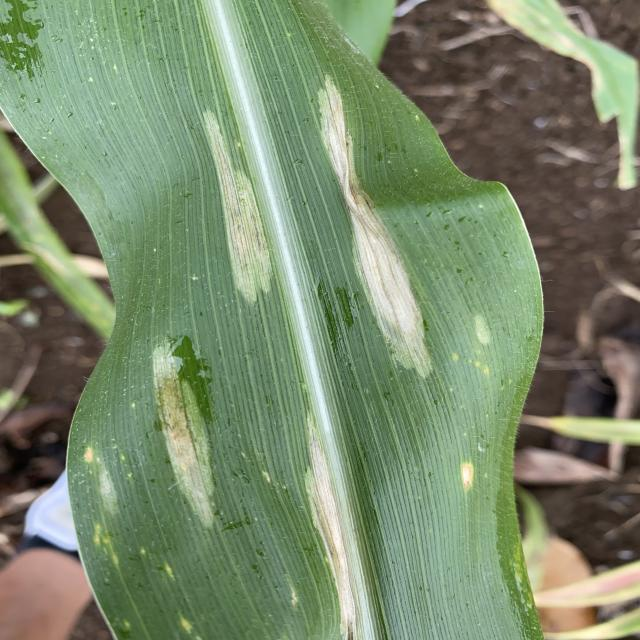Corn_Leaf_Blight: (67, 58, 546, 640)
